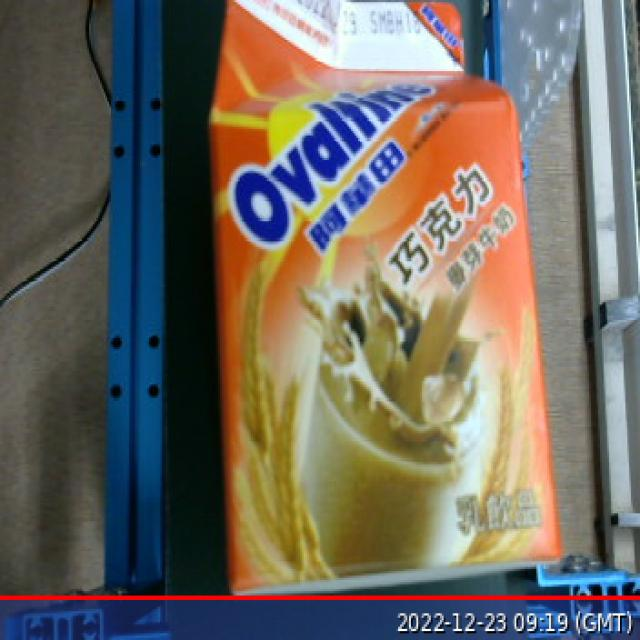non_white_jug: (202, 0, 570, 591)
